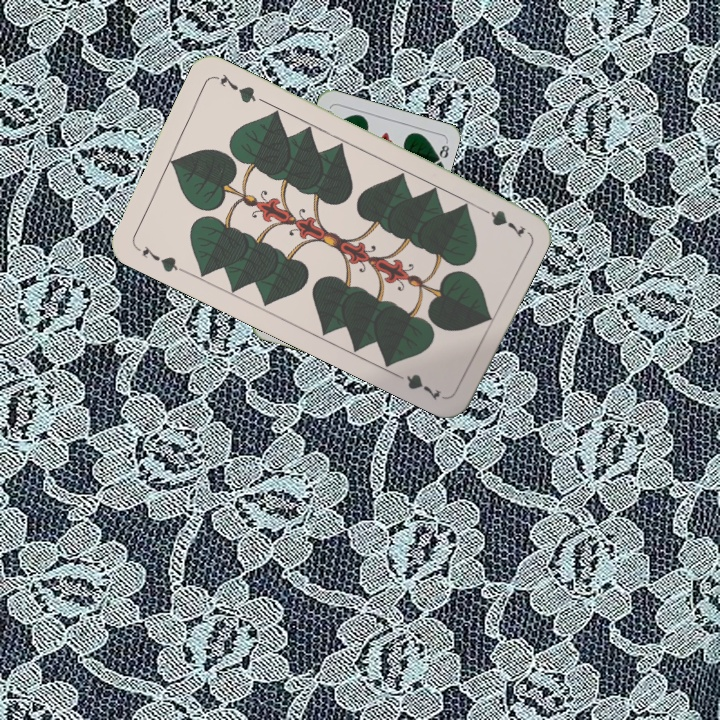G7: (473, 202, 529, 241), (131, 241, 186, 275)
